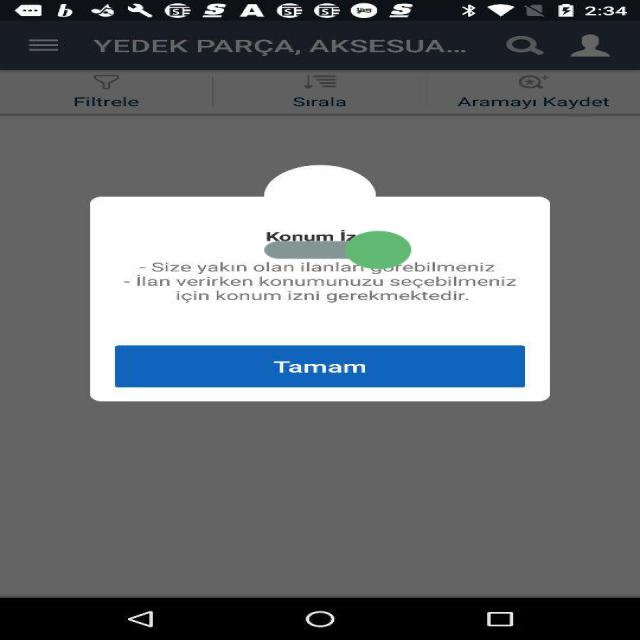social proof: (264, 207, 412, 293)
